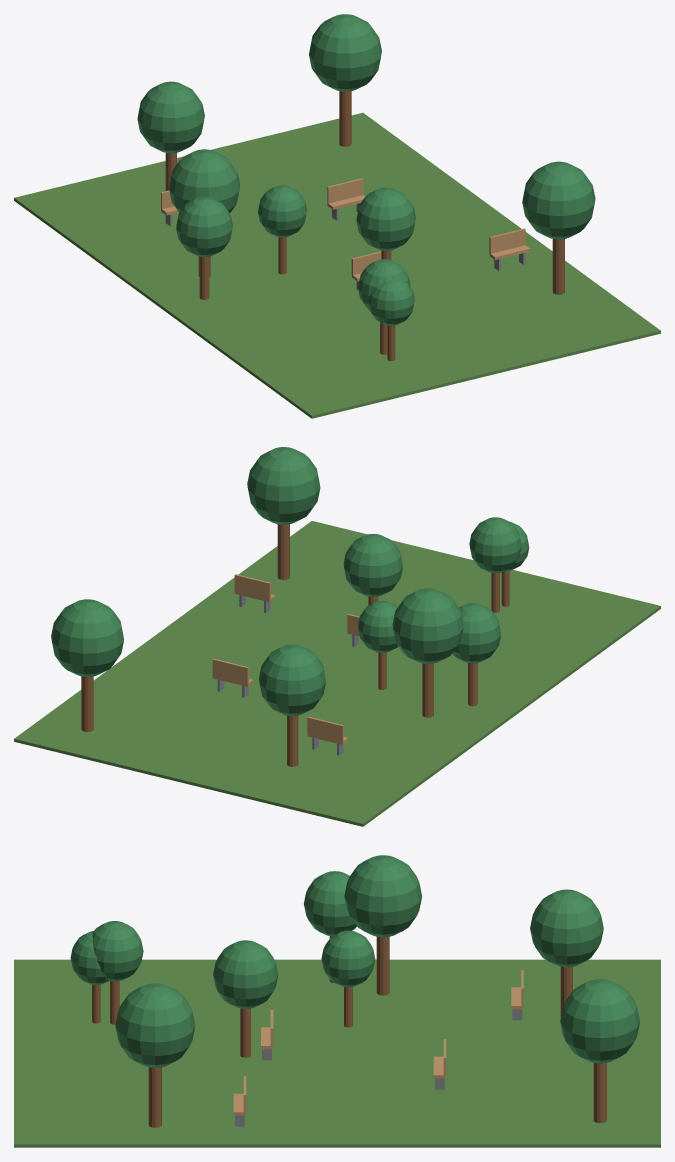
Rendered from Park_008.glb.
3 views of the same model, one above another, from view 1: azimuth 30°, elevation 25°; view 2: azimuth 150°, elevation 25°; view 3: azimuth 270°, elevation 25° (orthographic). The views are drawn at different scales.
Parts seen in each view (by area): view 1: Park_008; view 2: Park_008; view 3: Park_008.
Boxes of the visible parts, left/top/right/bottom form: Park_008: left=14, top=14, right=660, bottom=418; Park_008: left=14, top=447, right=660, bottom=826; Park_008: left=14, top=855, right=660, bottom=1147.
Size of the model in its own units: 19.89 by 7.09 by 29.4.
